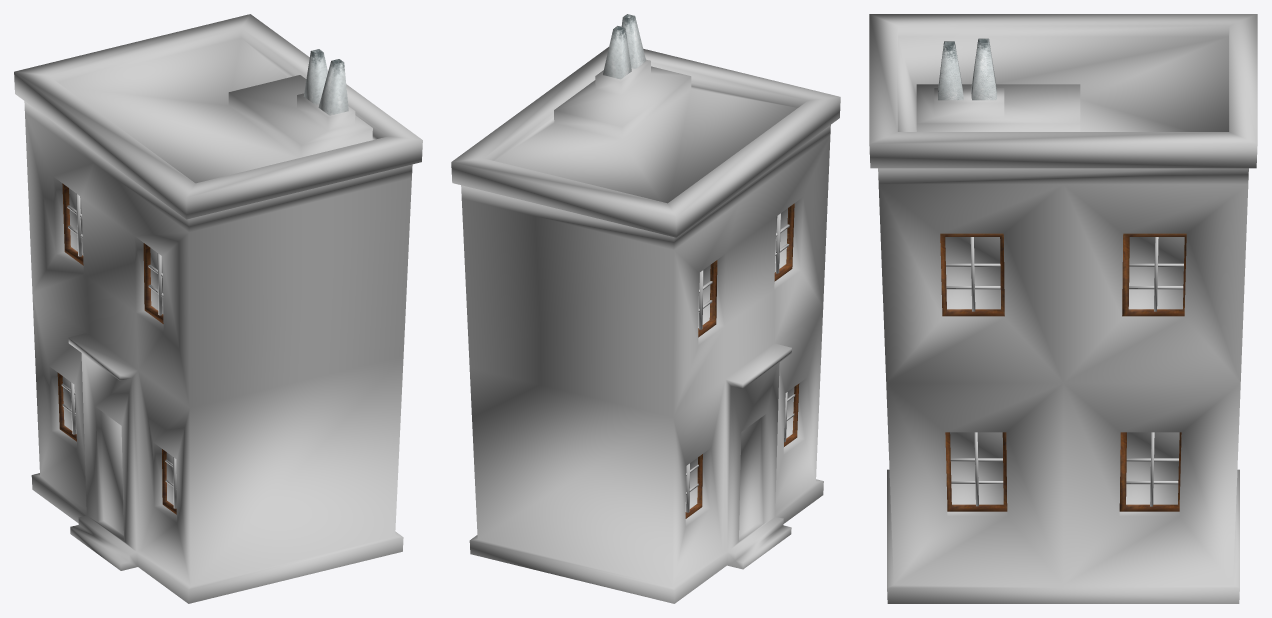
File: House1_01.FBX
3 renders of one model, left to right at view 1: azimuth 30°, elevation 25°; view 2: azimuth 150°, elevation 25°; view 3: azimuth 270°, elevation 25°, orthographic. The views are drawn at different scales.
Parts seen in each view (by area): view 1: Home2_low, Object; view 2: Home2_low, Object; view 3: Home2_low, Object.
Part boxes in pixels (<box>): Home2_low: <box>14,14,422,603</box>; Object: <box>57,183,176,514</box>; Home2_low: <box>451,14,840,603</box>; Object: <box>685,203,799,518</box>; Home2_low: <box>869,14,1257,603</box>; Object: <box>940,233,1186,511</box>.
Size of the model in its own units: 33.38 by 62.61 by 40.83.
